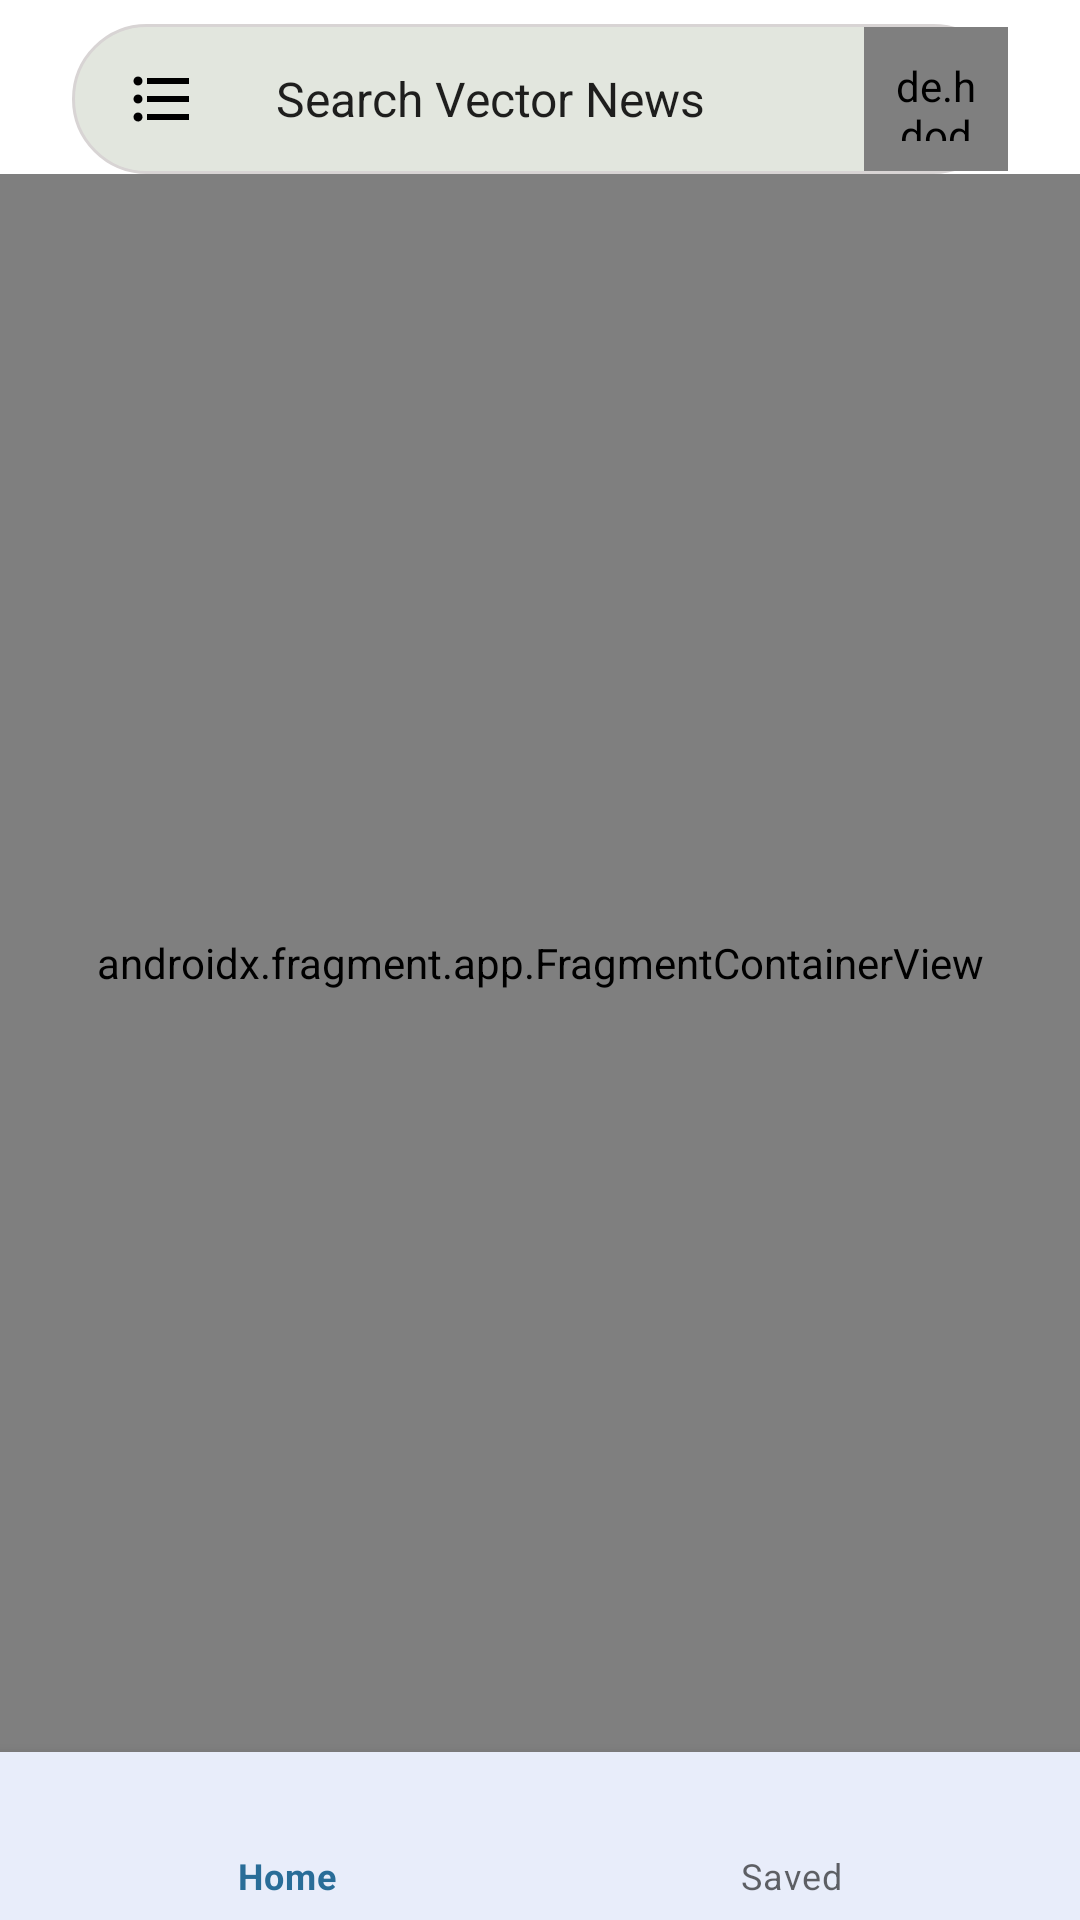

Where to tap for icons on this 1080px x 1920px app screen, as [x,y]:
hamburger: [162,99]
